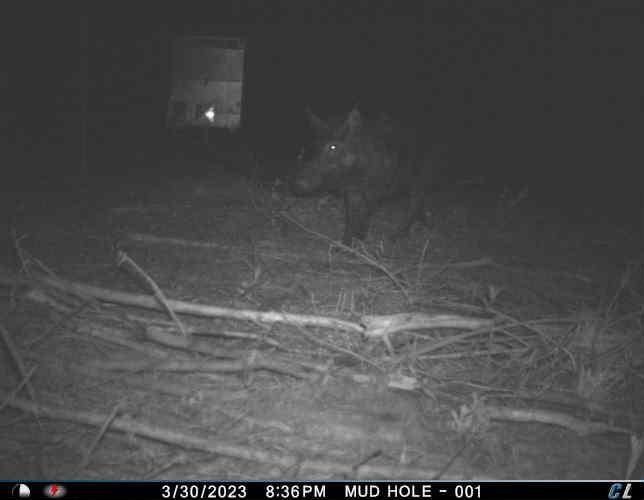Hog: (290, 98, 452, 251)
